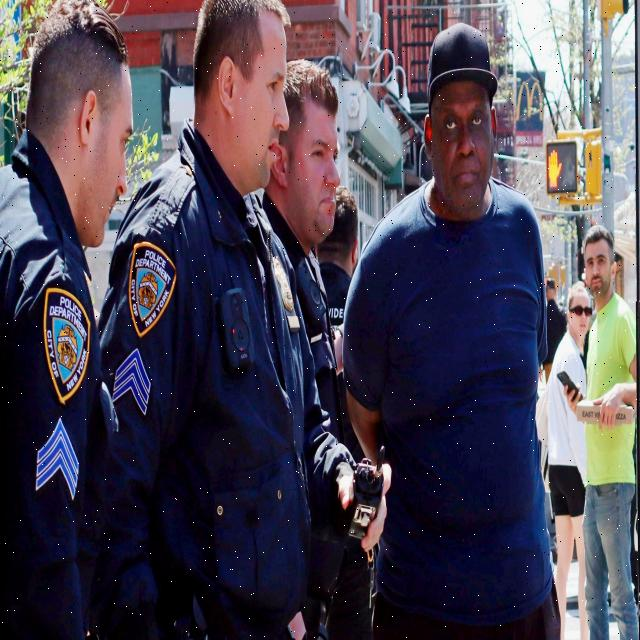police: (125, 0, 318, 640), (0, 0, 132, 640), (251, 46, 384, 640)
